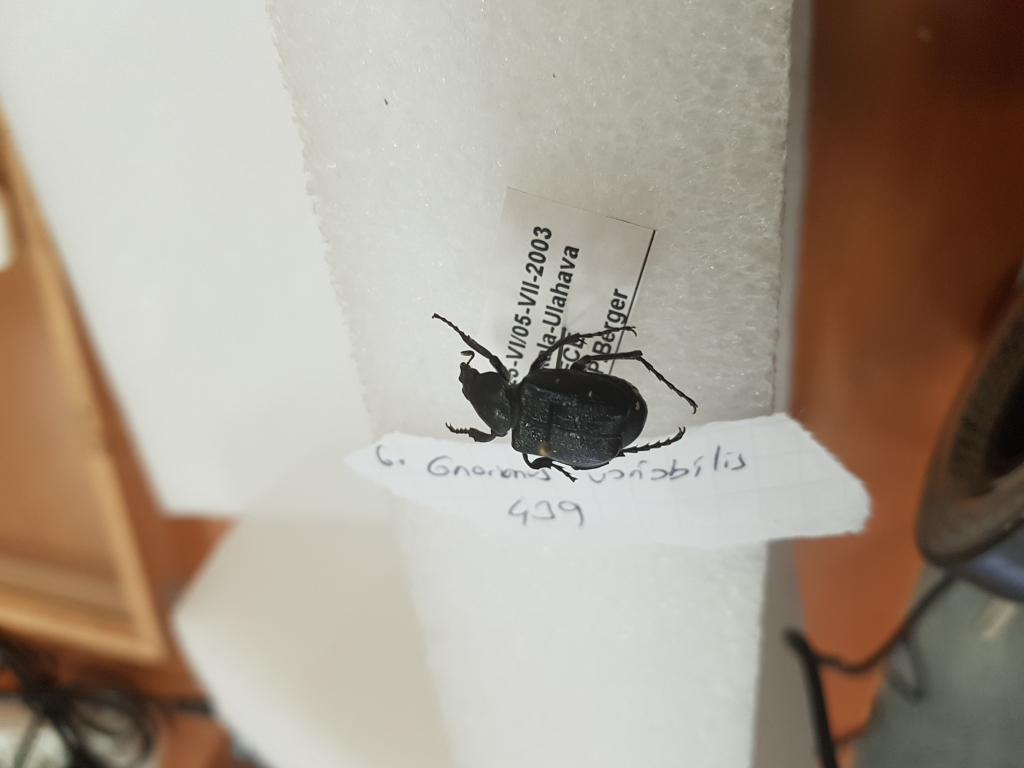Gnorimus_variabilis: (429, 311, 700, 484)
